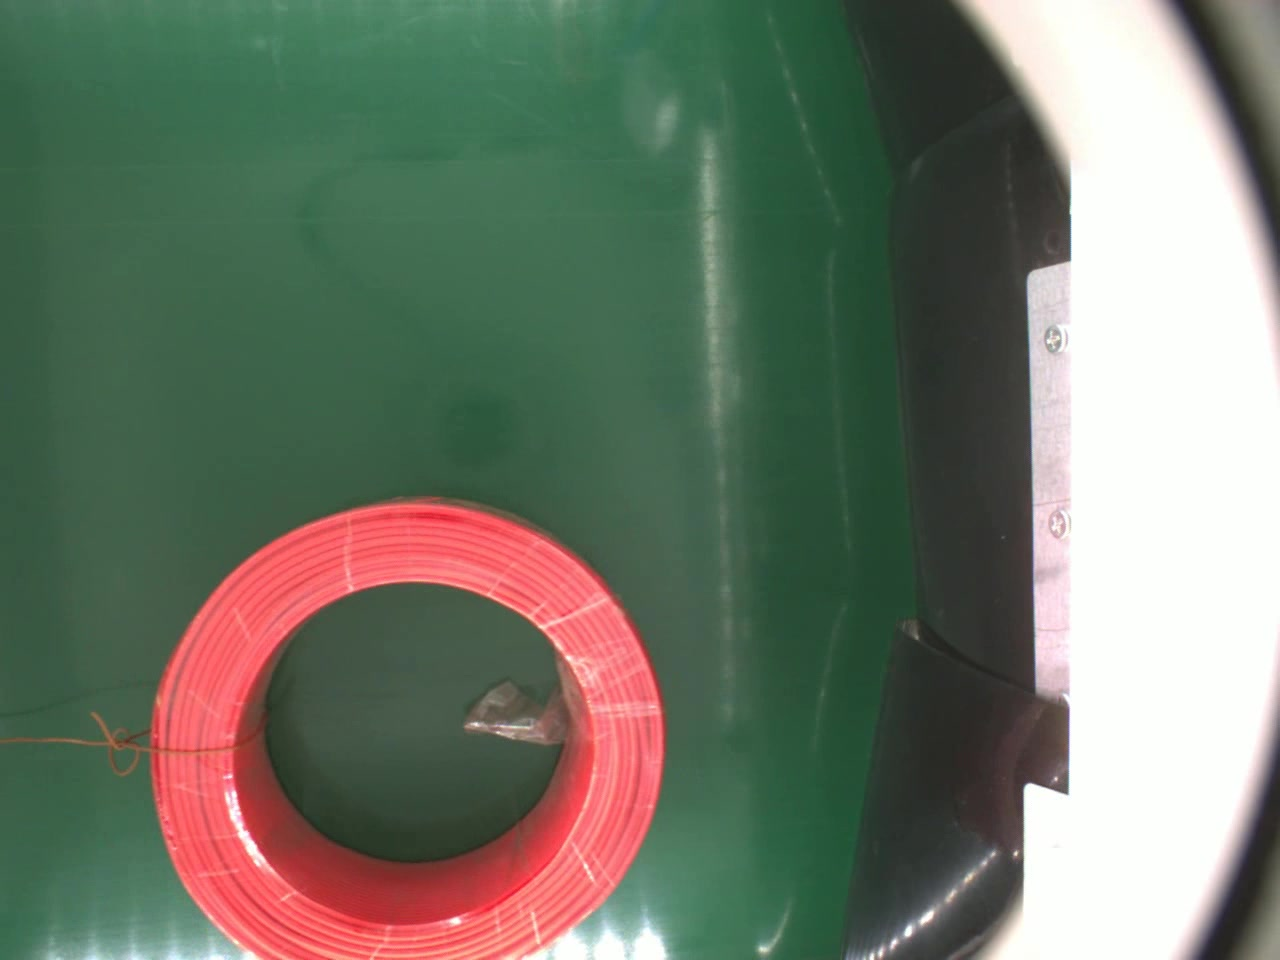red: (147, 491, 672, 960)
